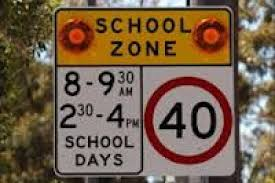sp40: (144, 69, 234, 161)
